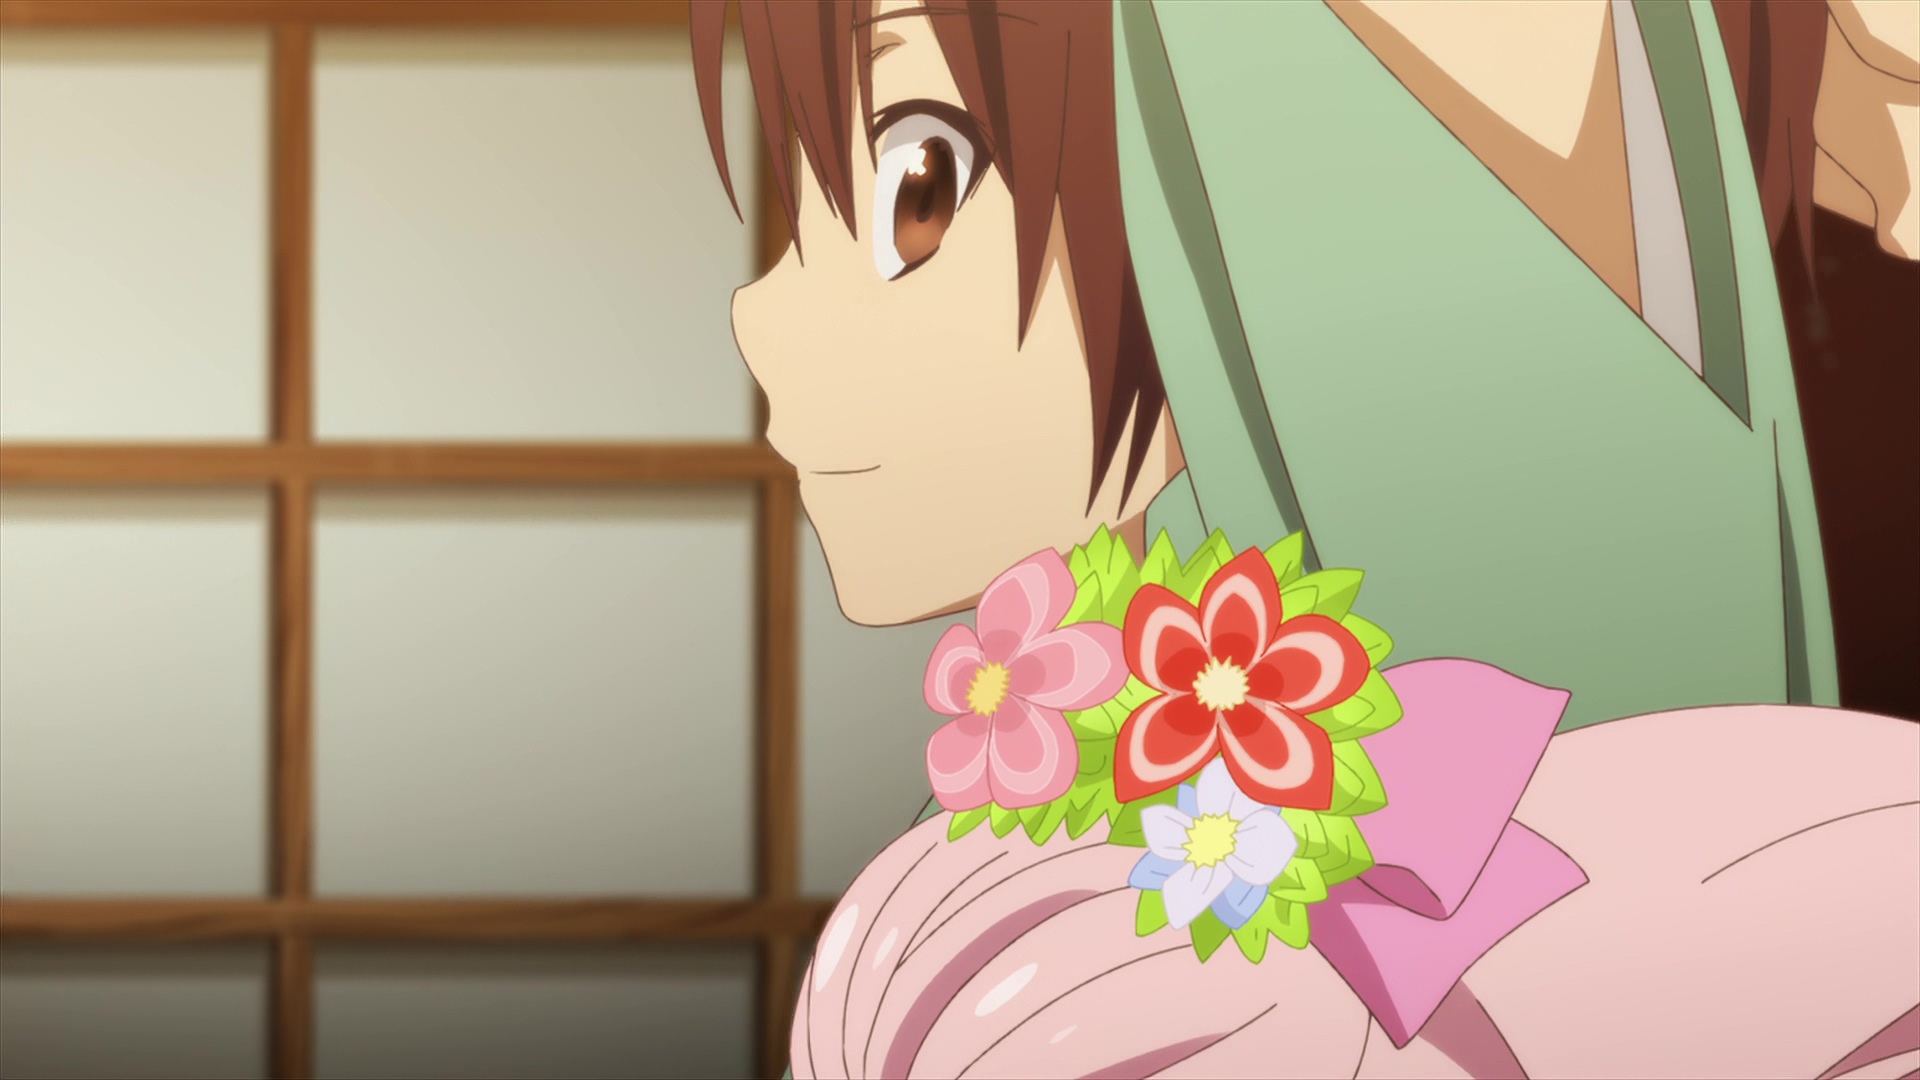枣: (692, 1, 1920, 732)
莲: (779, 526, 1920, 1080)
